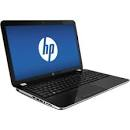laptop: (0, 15, 123, 106)
